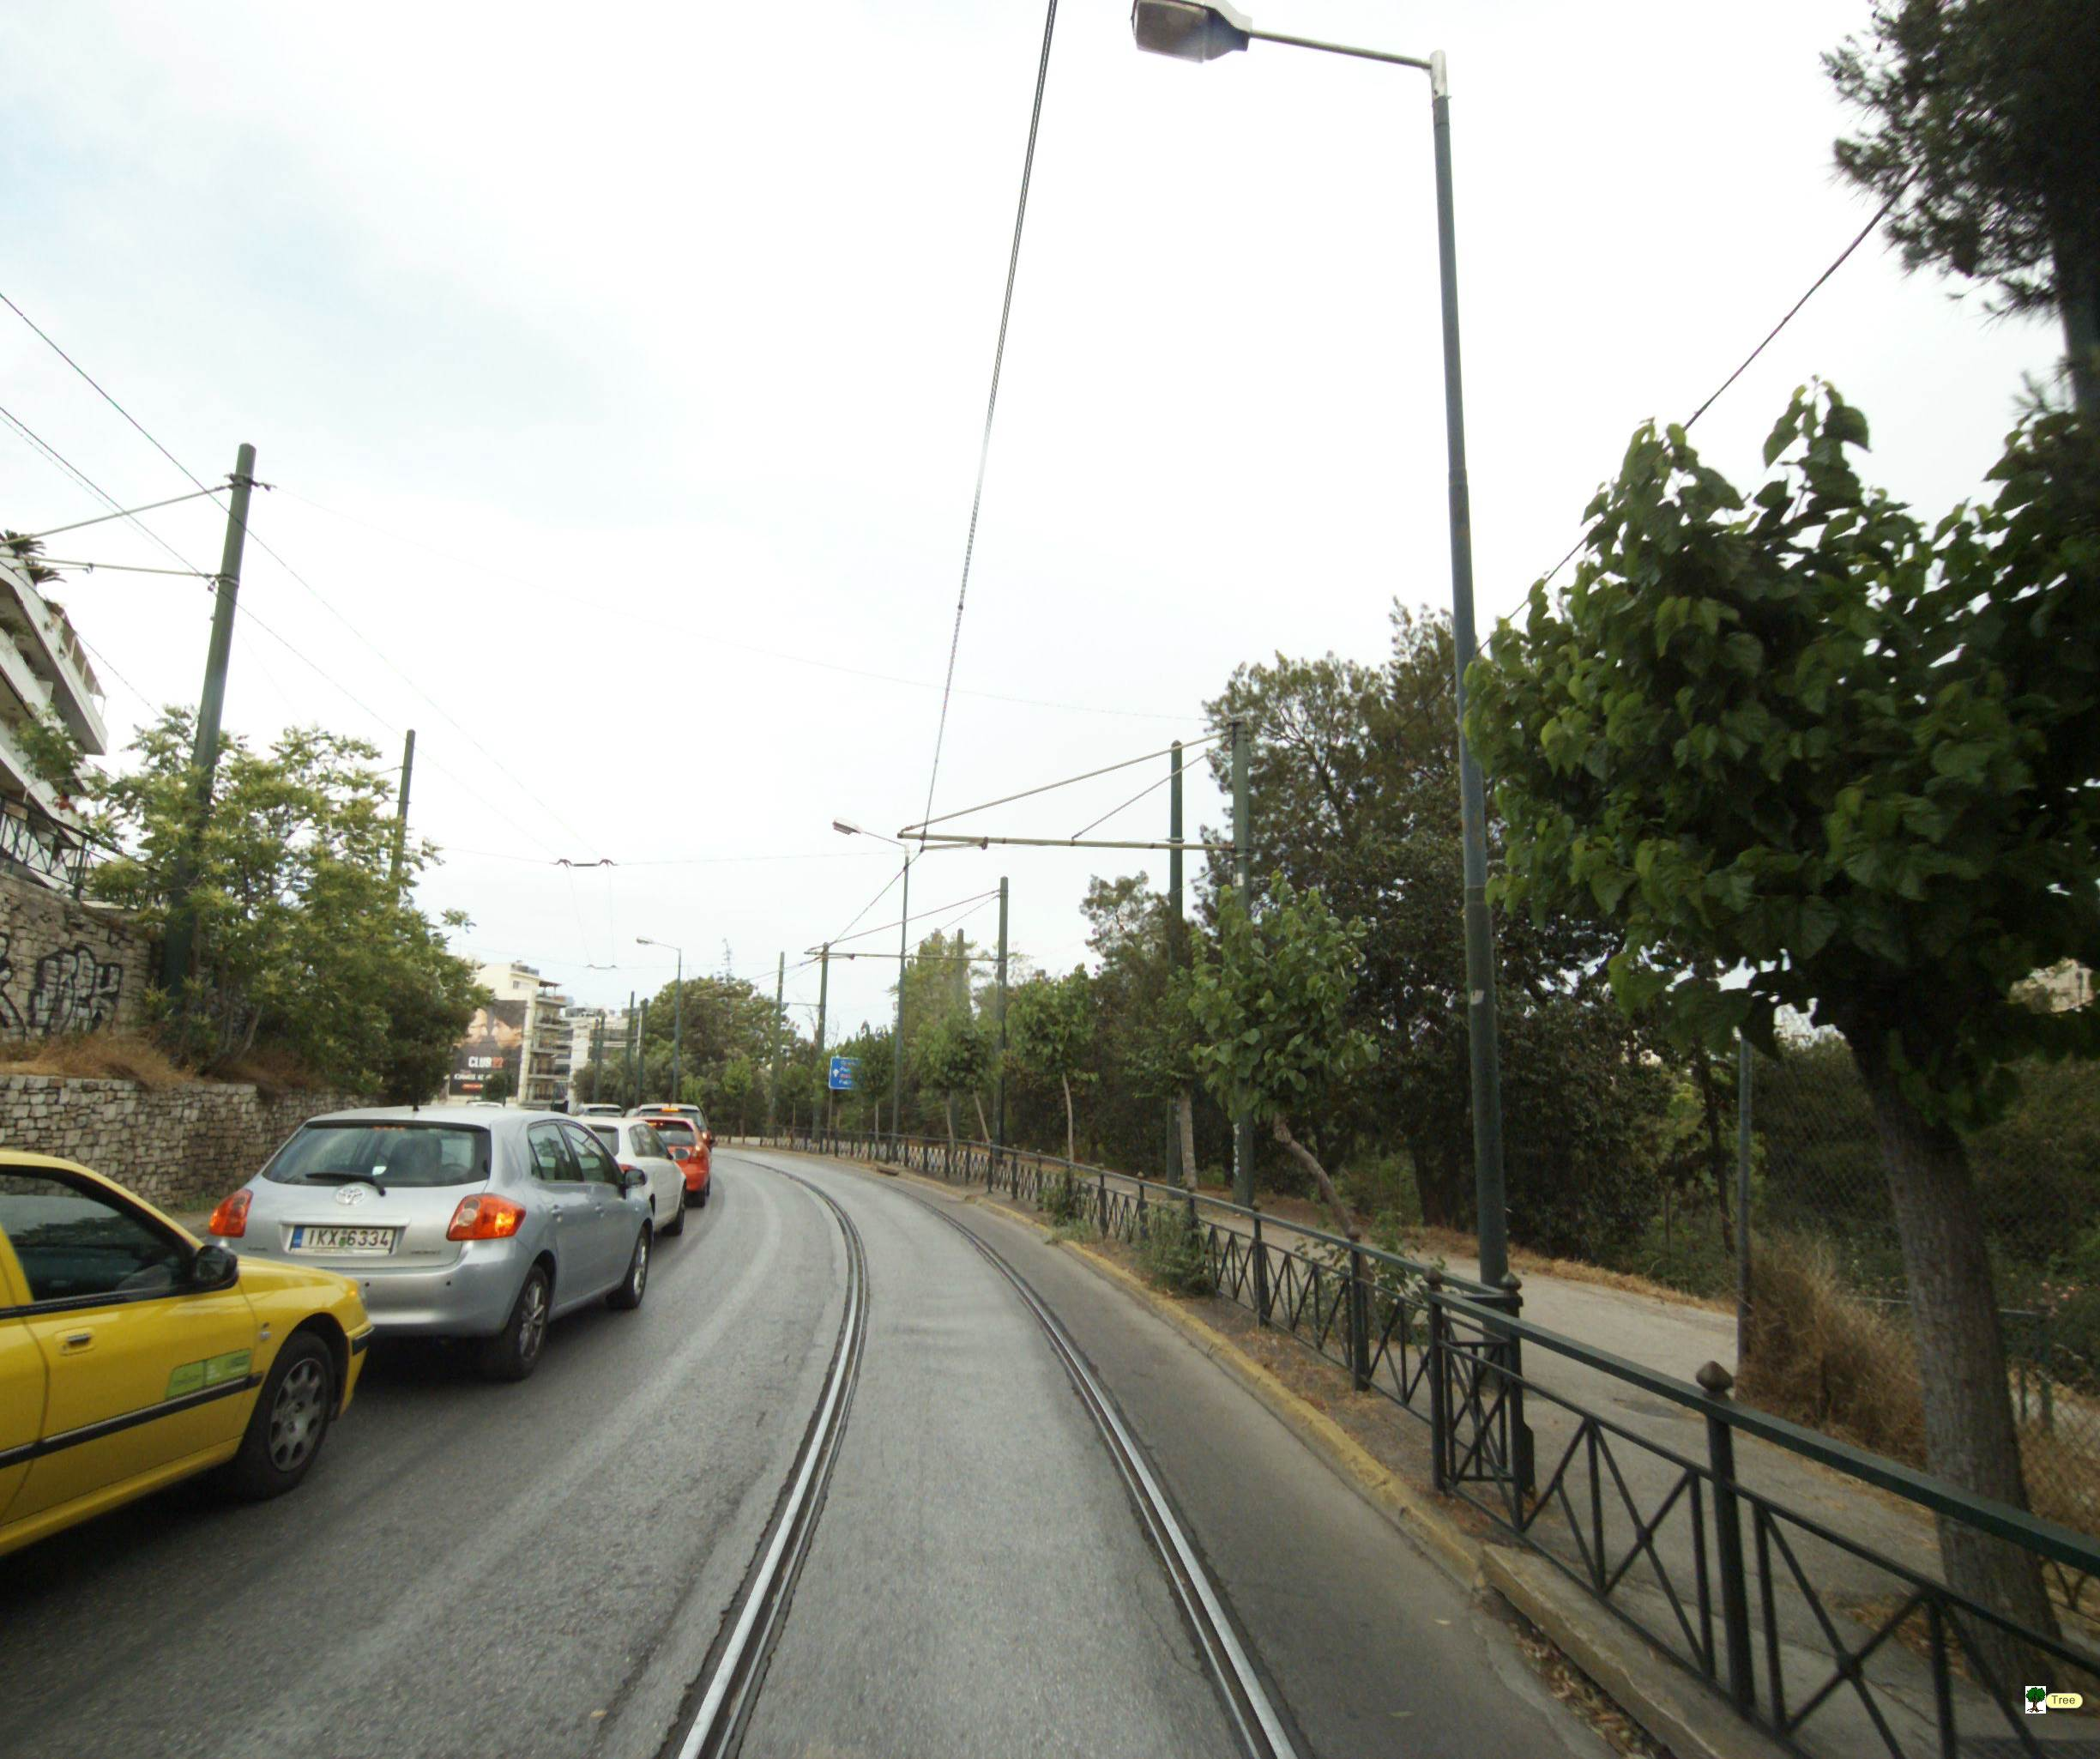tree: (1453, 302, 2100, 1670)
